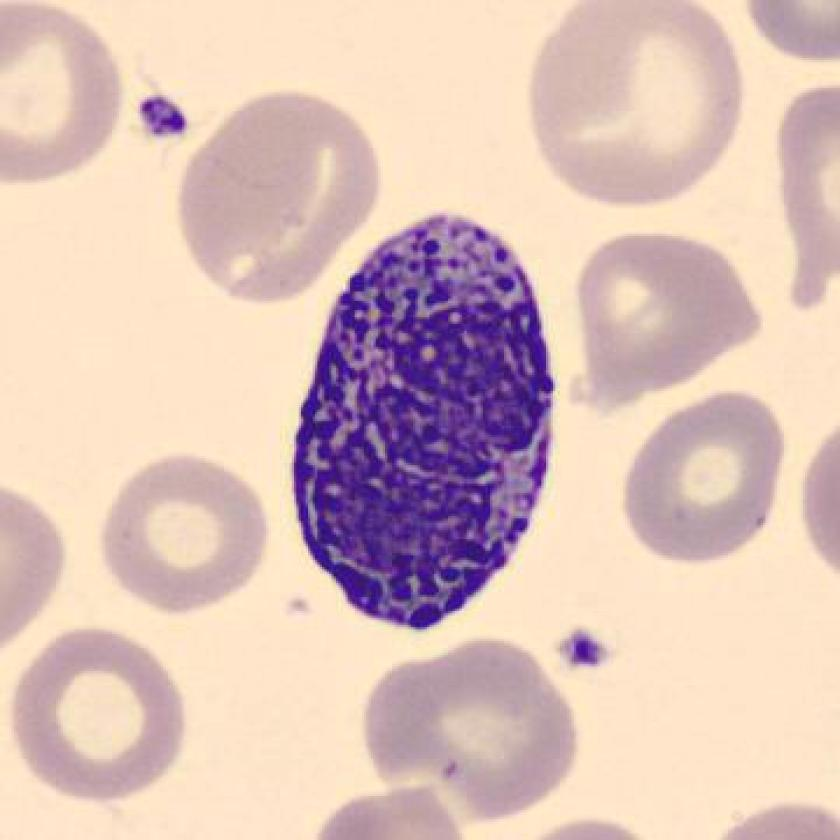basophil: (291, 203, 564, 631)
